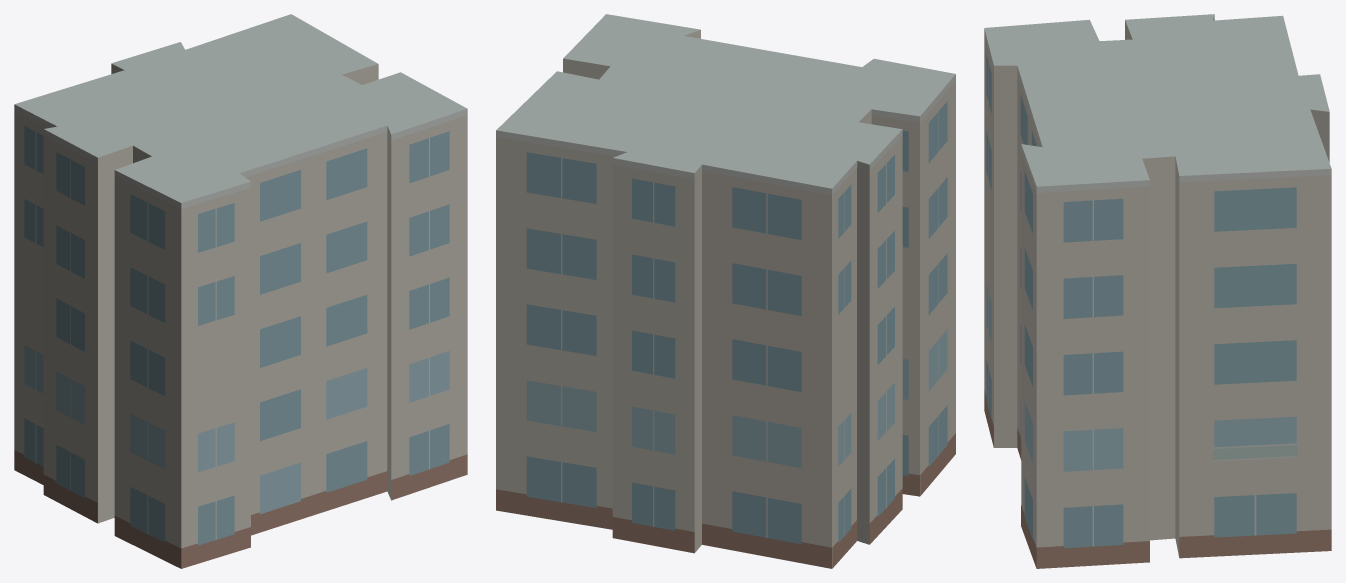
File: survey-upis-32567973.glb
The picture shows the model from 3 angles, left to right: view 1: azimuth 30°, elevation 25°; view 2: azimuth 150°, elevation 25°; view 3: azimuth 270°, elevation 25°; orthographic projection. The views are drawn at different scales.
Parts seen in each view (by area): view 1: survey-upis-32567973.tmp; view 2: survey-upis-32567973.tmp; view 3: survey-upis-32567973.tmp.
Part boxes in pixels (bbox=[...]): survey-upis-32567973.tmp: bbox=[14, 14, 467, 568]; survey-upis-32567973.tmp: bbox=[496, 14, 955, 568]; survey-upis-32567973.tmp: bbox=[984, 14, 1331, 568].
Bounding box in the file's own units: 14.21 × 14.65 × 12.08.
